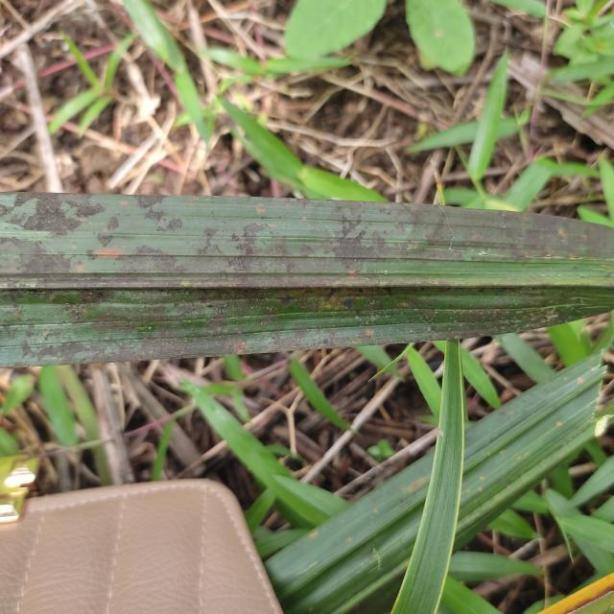Kalium: (0, 187, 614, 368)
